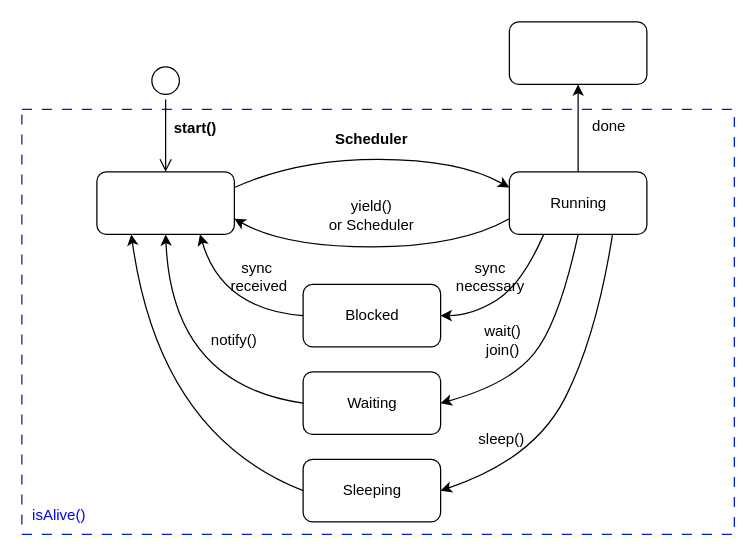
Some shapes in this 756 by 556 pixel diagram are drawn without their labels. The centre of each missing label's shape, as x and y in pixels:
"Dead (finish)" belongs at (x=577, y=52).
"Runnable" belongs at (x=165, y=202).
